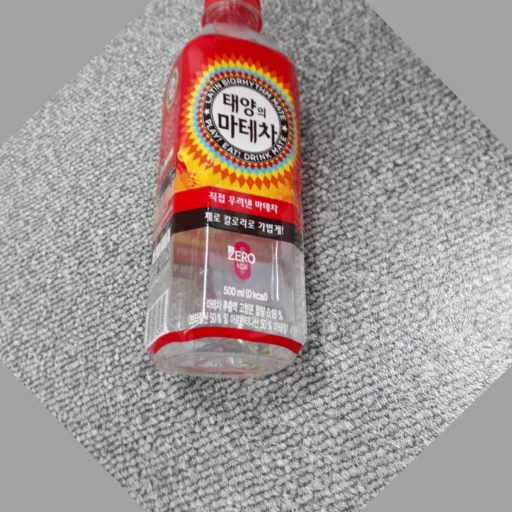Plastic_0: (143, 1, 310, 382)
